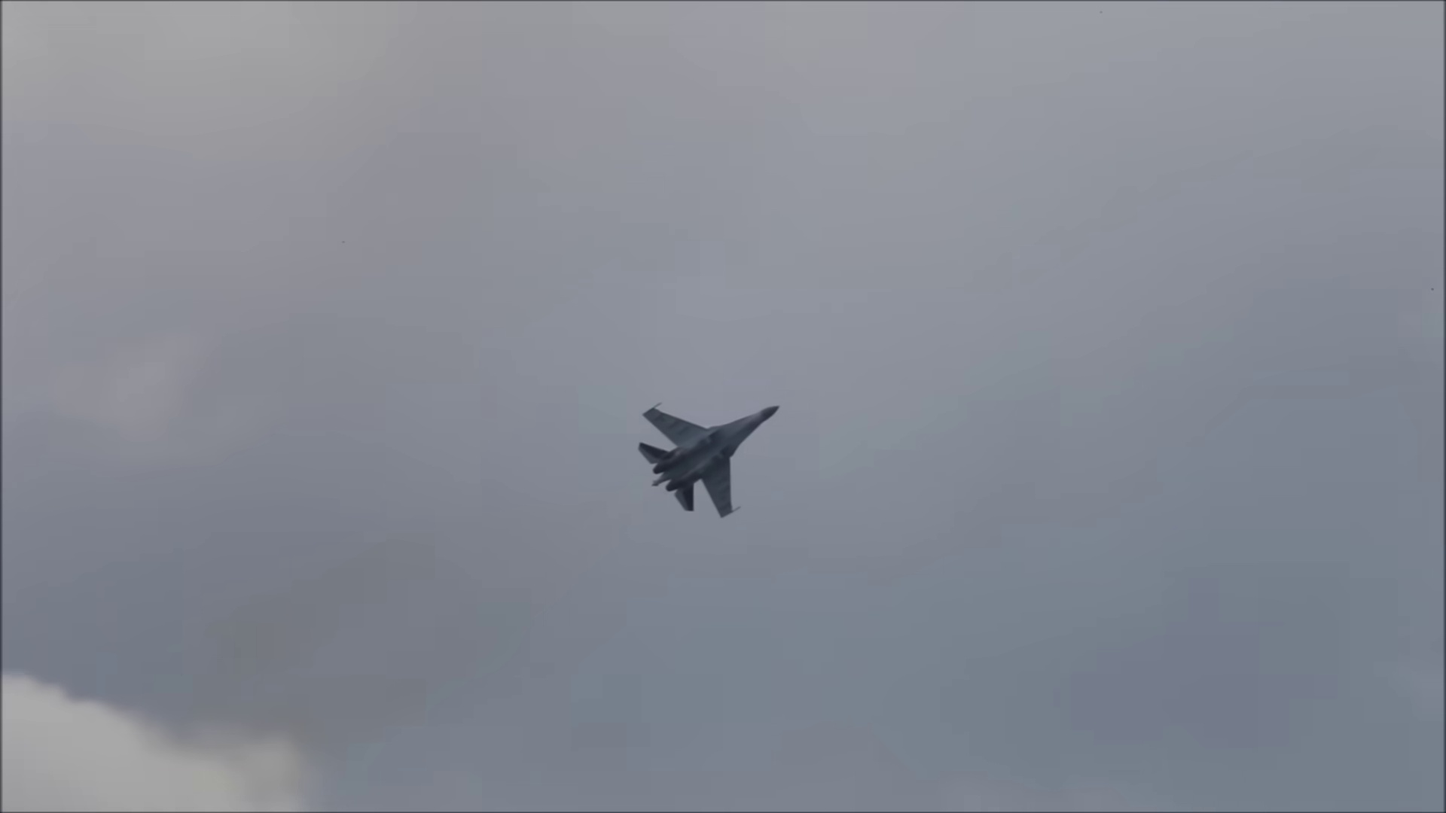Su35: (631, 386, 787, 525)
